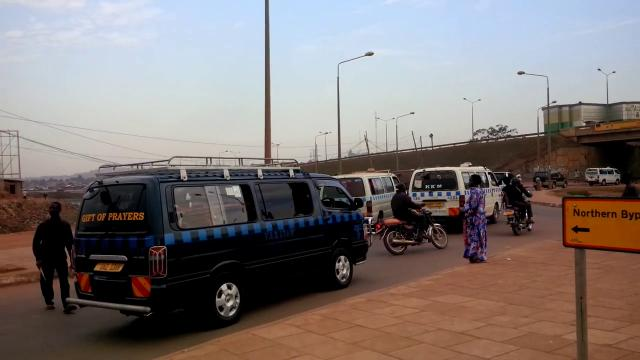car: (533, 168, 568, 190)
motorcycle: (378, 182, 451, 257), (501, 175, 539, 236)
van: (64, 150, 373, 324), (405, 164, 503, 231), (329, 170, 396, 222), (584, 167, 621, 186)
